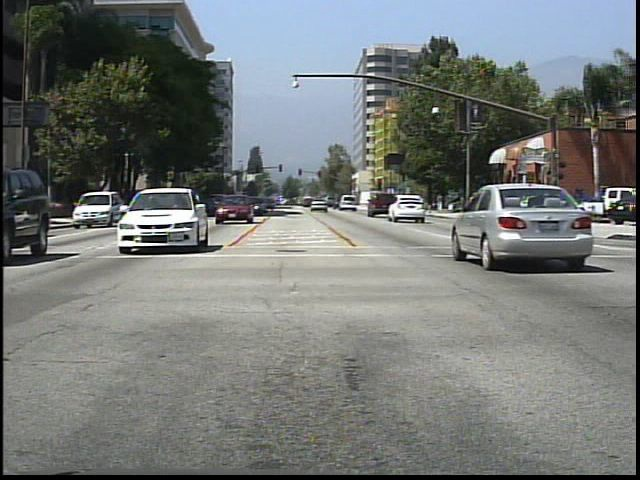person: (469, 191, 480, 220), (435, 191, 447, 214)
